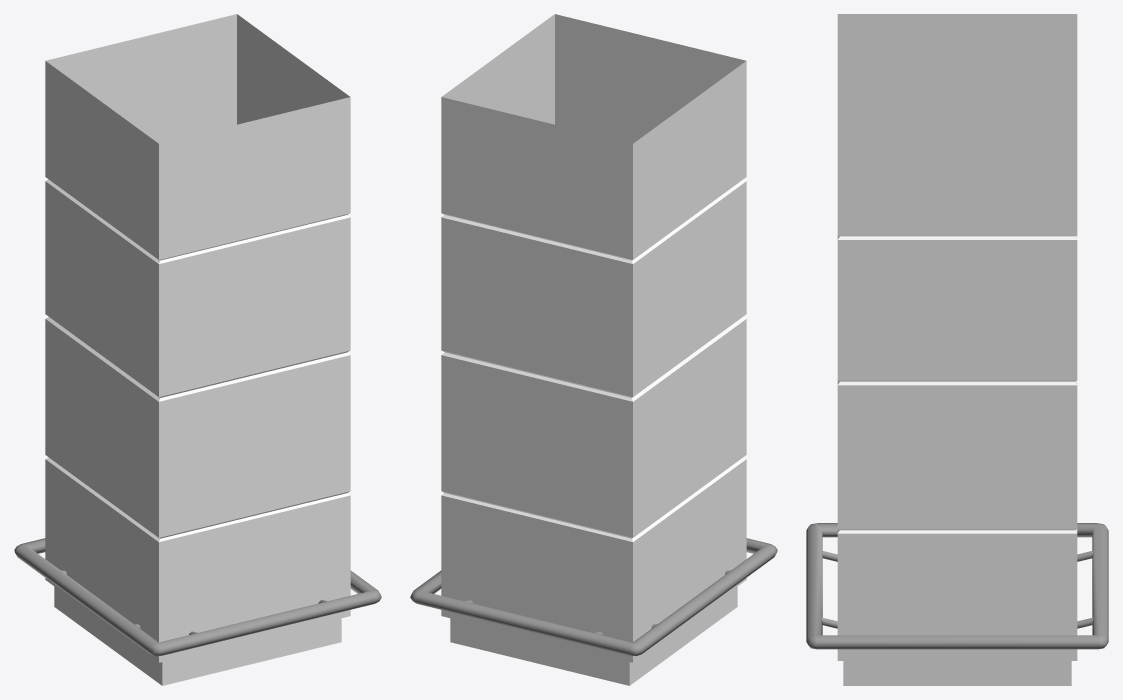
Rendered from Block_2.fbx.
3 views of the same model, side by side, from view 1: azimuth 30°, elevation 25°; view 2: azimuth 150°, elevation 25°; view 3: azimuth 270°, elevation 25° (orthographic). The views are drawn at different scales.
Visible parts, largest first — view 1: Block_2; view 2: Block_2; view 3: Block_2.
Part boxes in pixels (box(x1,y1,x2,y2)): Block_2: box(14, 14, 381, 685); Block_2: box(410, 14, 777, 685); Block_2: box(806, 14, 1108, 685).
Bounding box in the file's own units: 241 × 544 × 259.
